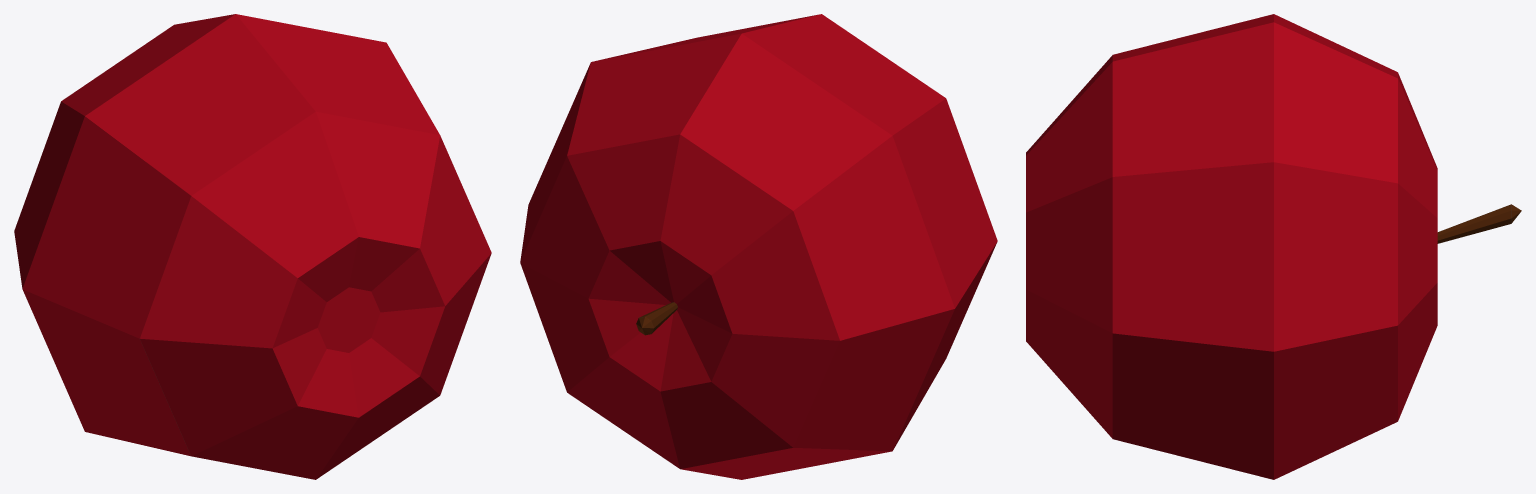
File: Apple.fbx
3 renders of one model, left to right at view 1: azimuth 30°, elevation 25°; view 2: azimuth 150°, elevation 25°; view 3: azimuth 270°, elevation 25°, orthographic.
Visible parts, largest first — view 1: Apple; view 2: Apple; view 3: Apple.
Boxes of the visible parts, box(x1,y1,x2,y2) form: Apple: box(14, 14, 491, 479); Apple: box(520, 14, 997, 479); Apple: box(1026, 14, 1521, 479).
Size of the model in its own units: 18 by 18 by 18.
